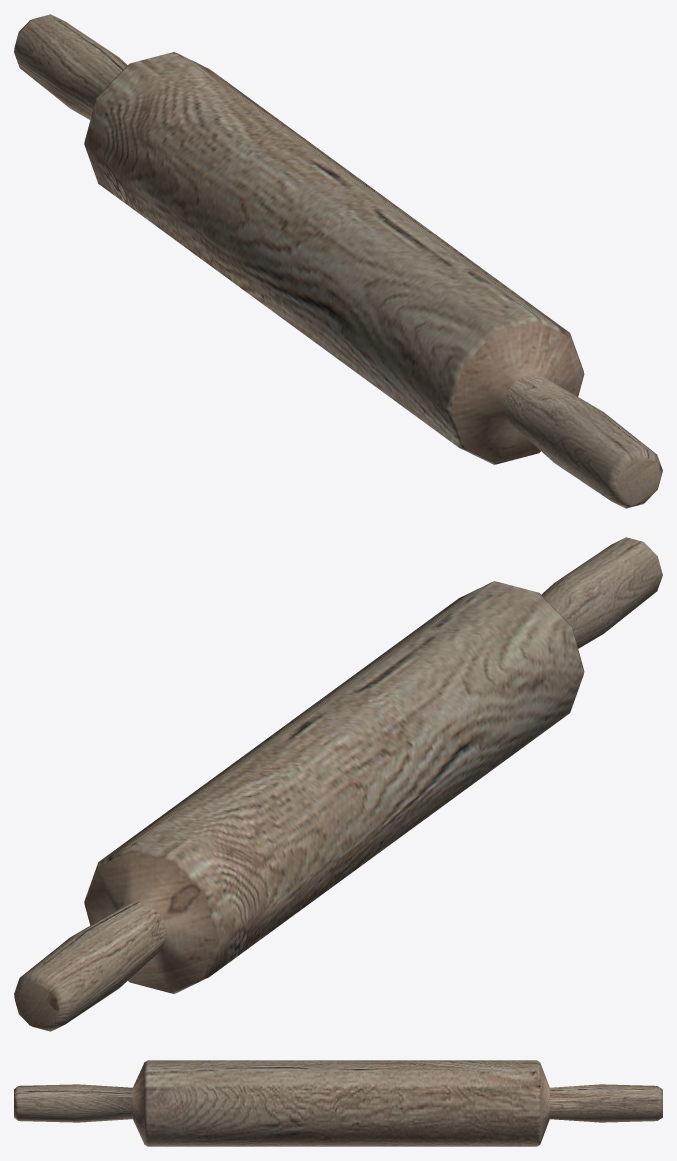
The model's file is SM_KitchenwareM.FBX.
The picture shows the model from 3 angles, top to bottom: view 1: azimuth 30°, elevation 25°; view 2: azimuth 150°, elevation 25°; view 3: azimuth 270°, elevation 25°; orthographic projection. The views are drawn at different scales.
Parts seen in each view (by area): view 1: SM_KitchenwareM; view 2: SM_KitchenwareM; view 3: SM_KitchenwareM.
Boxes of the visible parts, x1,y1,x2,y2 form: SM_KitchenwareM: (14, 14, 662, 508); SM_KitchenwareM: (14, 537, 662, 1031); SM_KitchenwareM: (14, 1060, 662, 1146).
Bounding box in the file's own units: 5.75 × 5.5 × 43.01.
